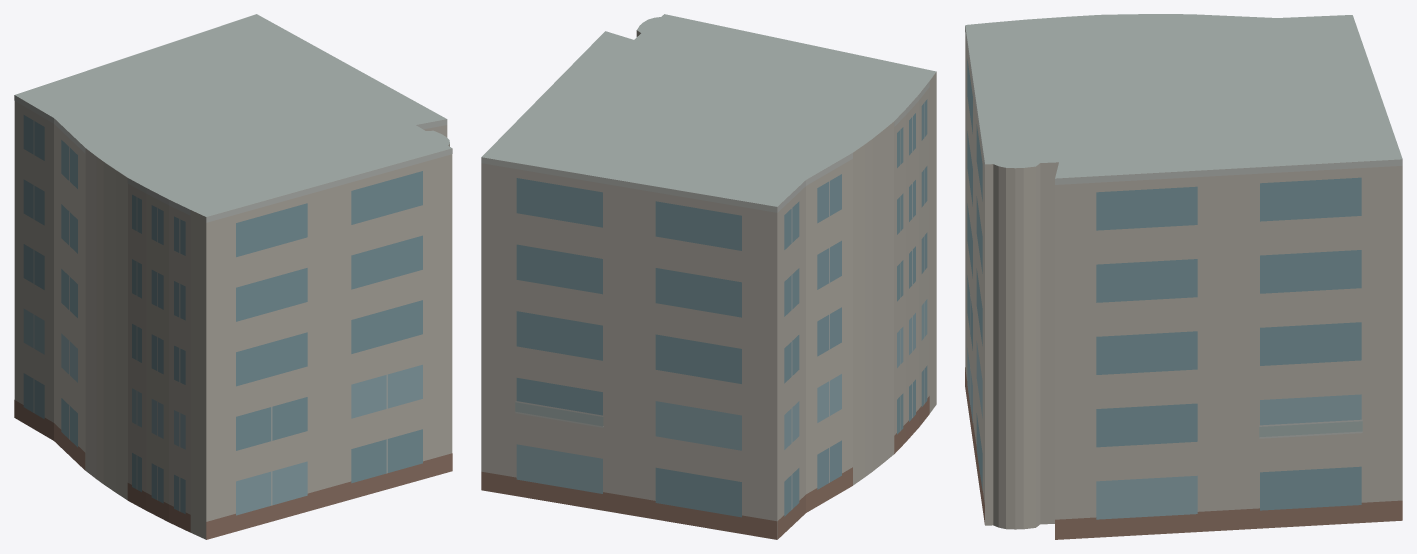
Rendered from survey-upis-33036387.glb.
3 views of the same model, side by side, from view 1: azimuth 30°, elevation 25°; view 2: azimuth 150°, elevation 25°; view 3: azimuth 270°, elevation 25° (orthographic). The views are drawn at different scales.
Visible parts, largest first — view 1: survey-upis-33036387.tmp; view 2: survey-upis-33036387.tmp; view 3: survey-upis-33036387.tmp.
Boxes of the visible parts, x1,y1,x2,y2 form: survey-upis-33036387.tmp: [14, 14, 452, 539]; survey-upis-33036387.tmp: [481, 14, 936, 539]; survey-upis-33036387.tmp: [965, 14, 1402, 539].
Size of the model in its own units: 13.29 by 13.6 by 14.94.
